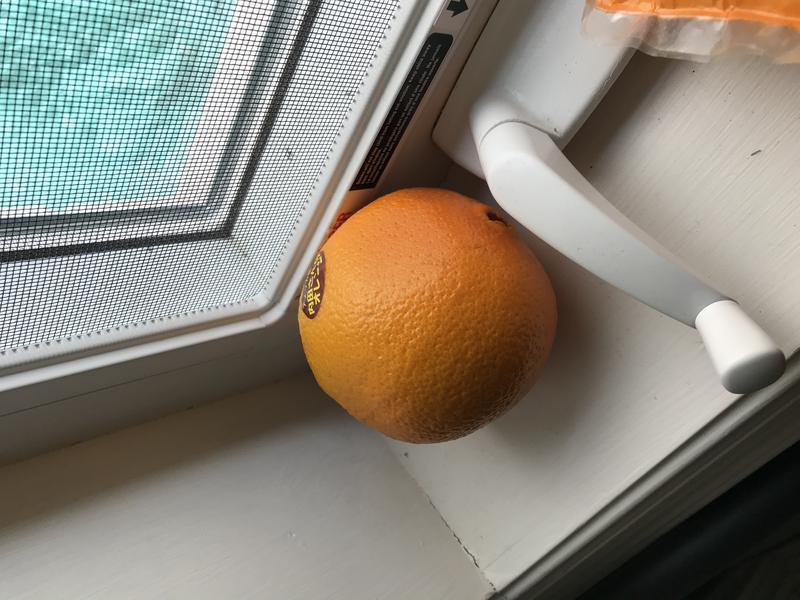orange: (284, 179, 570, 452)
